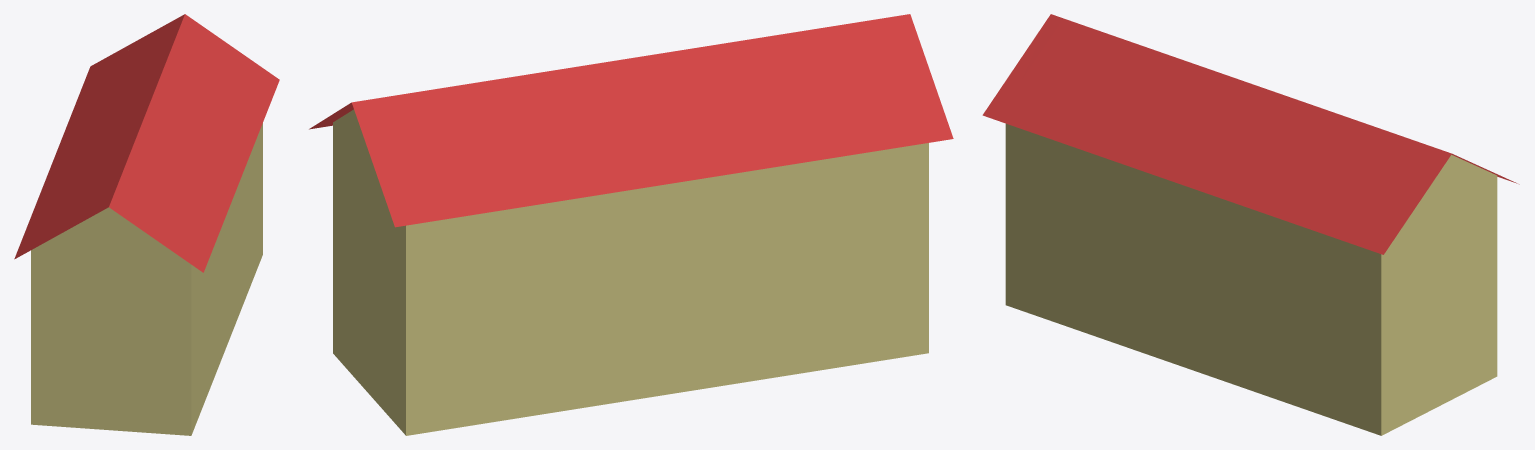
3 views of the same model, side by side, from view 1: azimuth 30°, elevation 25°; view 2: azimuth 150°, elevation 25°; view 3: azimuth 270°, elevation 25° (orthographic). The views are drawn at different scales.
Parts seen in each view (by area): view 1: group_5, group_3, group_4; view 2: group_5, group_3, group_4; view 3: group_5, group_3, group_4.
Part boxes in pixels (x1,y1,x2,y2): group_5: (31, 123, 262, 435); group_3: (14, 14, 279, 272); group_4: (66, 14, 221, 241); group_5: (333, 109, 928, 435); group_3: (351, 14, 953, 226); group_4: (309, 102, 672, 227); group_5: (1005, 123, 1497, 435); group_3: (982, 15, 1519, 254); group_4: (1020, 14, 1457, 192).
Bounding box in the file's own units: 22.45 × 24.32 × 12.82.
